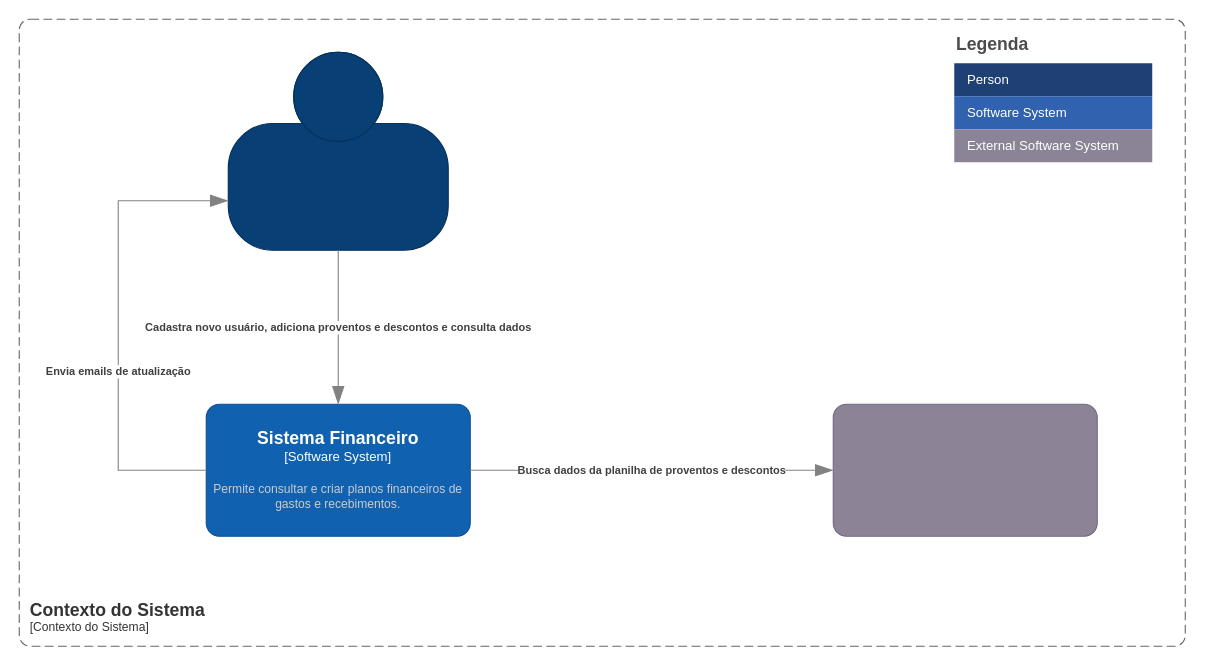
Image size: 1205x666. Some labels were removed from this diagram. The shapes that lost their labels are listed below. From the top down, each one's centre as x and y in pixels, then its label:
At (x=337, y=150): "Usuário [Person] Usuário da aplicação".
At (x=964, y=469): "Google Sheets [Software System] Serviço externo de planilhas".
